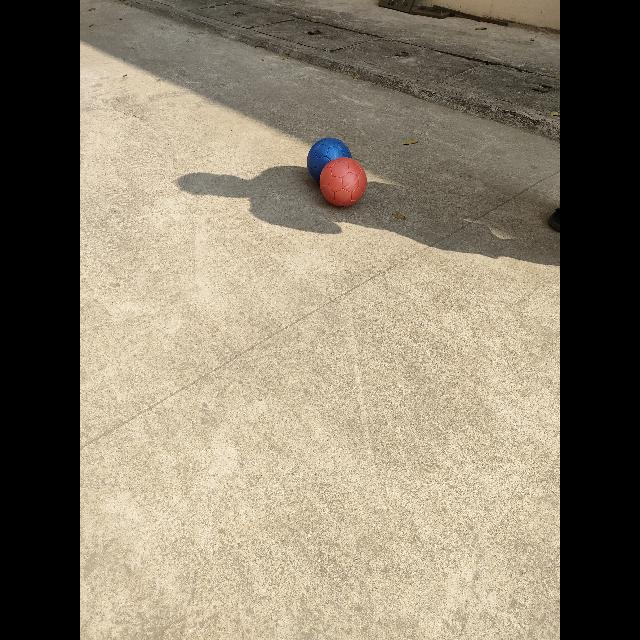B: (308, 138, 351, 181)
R: (320, 158, 368, 206)
